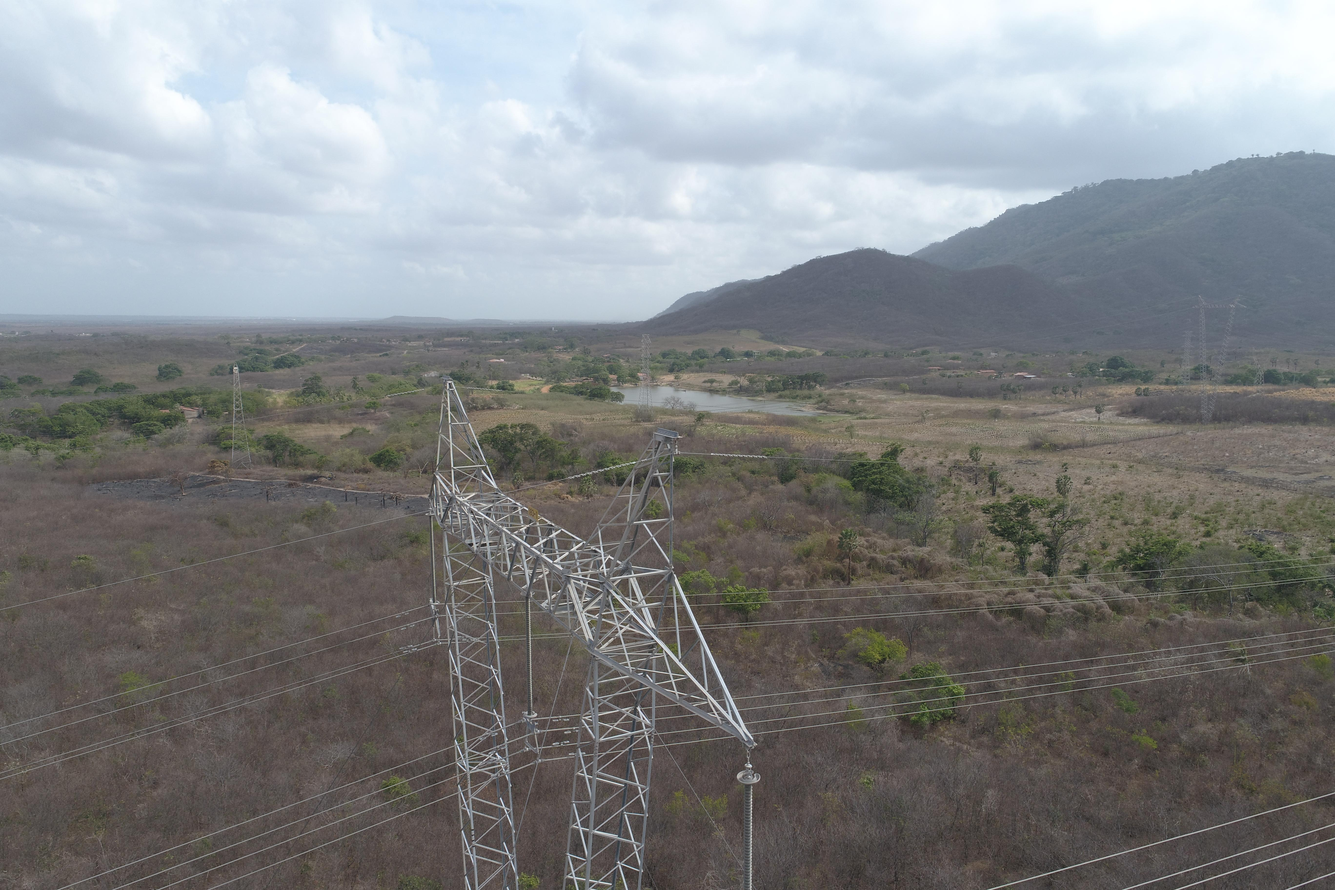power_tower: (427, 374, 758, 890), (1191, 294, 1249, 427), (229, 361, 255, 471), (637, 334, 654, 415), (1251, 344, 1275, 396), (1183, 328, 1198, 386)
